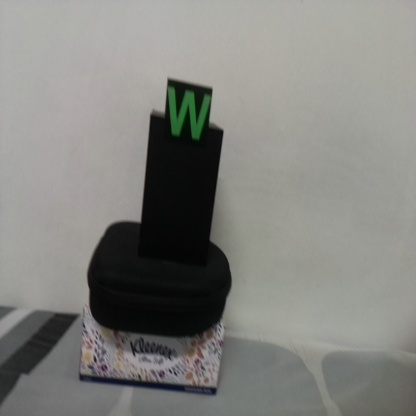id_12: (166, 80, 213, 155)
